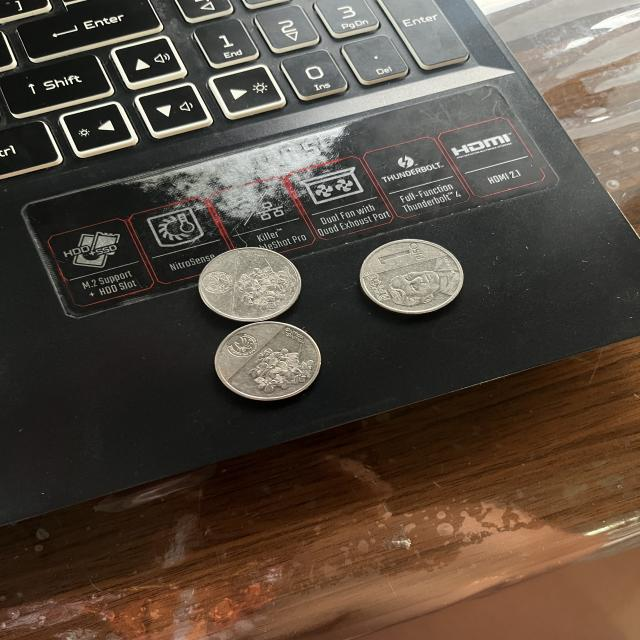1_New_Back: (229, 253, 299, 316), (244, 341, 319, 394)
1_New_Front: (374, 241, 431, 269)
